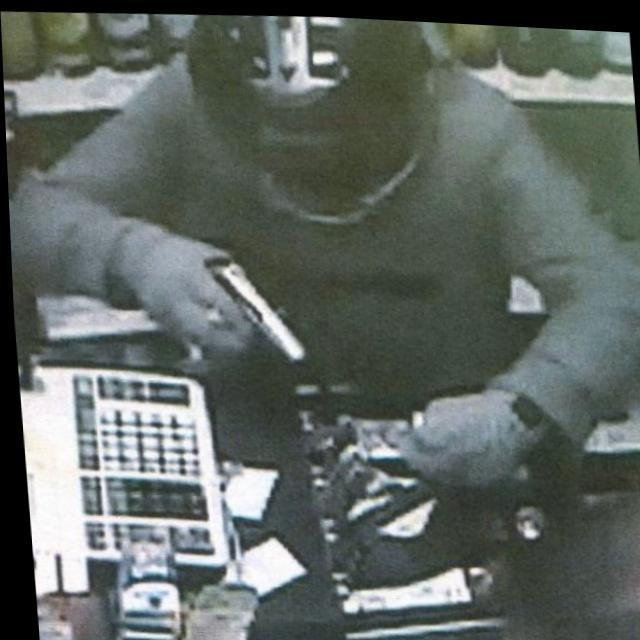weapon: (202, 254, 313, 368)
